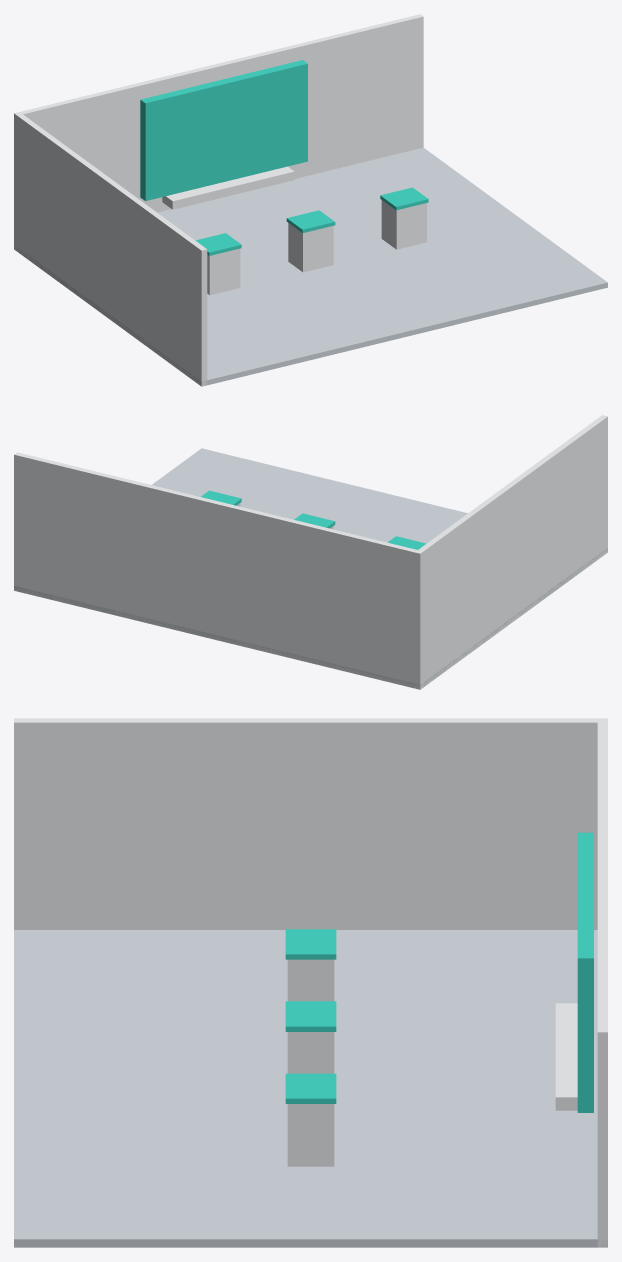
The picture shows the model from 3 angles, top to bottom: view 1: azimuth 30°, elevation 25°; view 2: azimuth 150°, elevation 25°; view 3: azimuth 270°, elevation 25°; orthographic projection. The views are drawn at different scales.
Visible parts, largest first — view 1: Exhibition Booth Concept; view 2: Exhibition Booth Concept; view 3: Exhibition Booth Concept.
Boxes of the visible parts, bbox=[...] form: Exhibition Booth Concept: bbox=[14, 14, 607, 386]; Exhibition Booth Concept: bbox=[14, 415, 607, 689]; Exhibition Booth Concept: bbox=[14, 718, 607, 1247].
Bounding box in the file's own units: 10 × 3.2 × 8.
